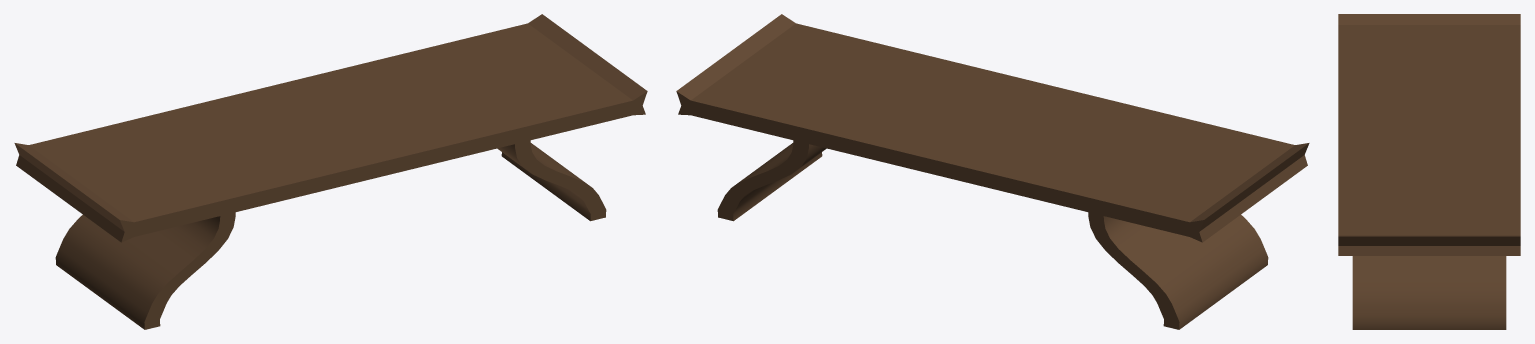
File: taula2.fbx
3 views of the same model, side by side, from view 1: azimuth 30°, elevation 25°; view 2: azimuth 150°, elevation 25°; view 3: azimuth 270°, elevation 25° (orthographic). The views are drawn at different scales.
Parts seen in each view (by area): view 1: Banco, Patas; view 2: Banco, Patas; view 3: Banco, Patas.
Part boxes in pixels (bbox=[...]): Banco: bbox=[14, 14, 647, 242]; Patas: bbox=[55, 140, 606, 329]; Banco: bbox=[676, 14, 1309, 242]; Patas: bbox=[717, 140, 1268, 329]; Banco: bbox=[1338, 14, 1520, 255]; Patas: bbox=[1352, 256, 1506, 329].
Bounding box in the file's own units: 578 × 130 × 200.
